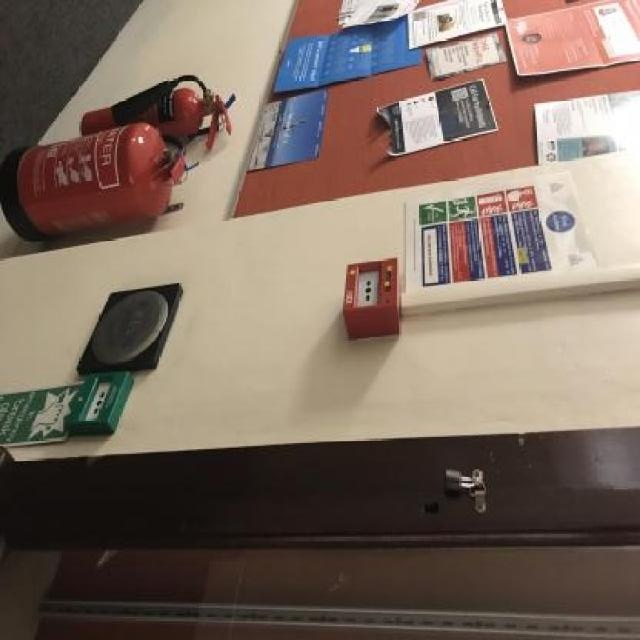fire extinguisher: (13, 122, 189, 240), (81, 75, 233, 147)
